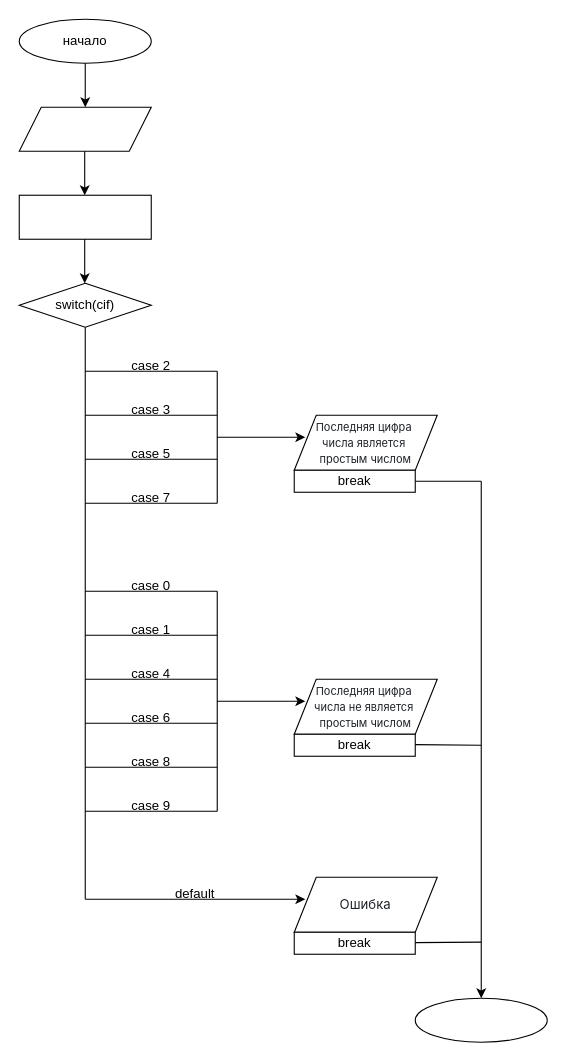
Some shapes in this 567 by 1062 pixel diagram are drawn without their labels. Here are the shapes that lost their labels. From the top down, the centre of each, then its label:
point 84,128: number, cif
point 84,216: cif = number % 10
point 480,1019: конец
